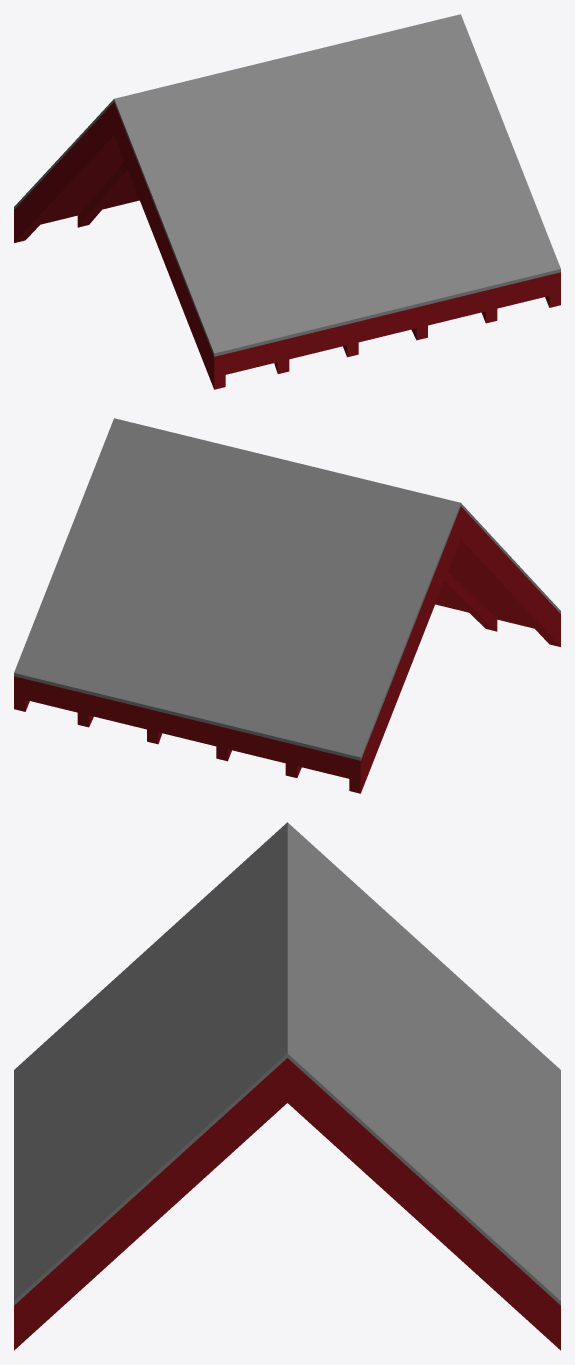
File: SM_MH_01_Slate_Roof_Top_01.fbx
3 views of the same model, one above another, from view 1: azimuth 30°, elevation 25°; view 2: azimuth 150°, elevation 25°; view 3: azimuth 270°, elevation 25° (orthographic). The views are drawn at different scales.
Visible parts, largest first — view 1: SM_MH_01_Slate_Roof_Top_01_LOD0; view 2: SM_MH_01_Slate_Roof_Top_01_LOD0; view 3: SM_MH_01_Slate_Roof_Top_01_LOD0.
Part boxes in pixels (box(x1,y1,x2,y2)): SM_MH_01_Slate_Roof_Top_01_LOD0: box(14, 14, 560, 389); SM_MH_01_Slate_Roof_Top_01_LOD0: box(14, 418, 560, 793); SM_MH_01_Slate_Roof_Top_01_LOD0: box(14, 822, 560, 1350).
Size of what is drawn, in the model's own units: 300 by 180 by 300.
